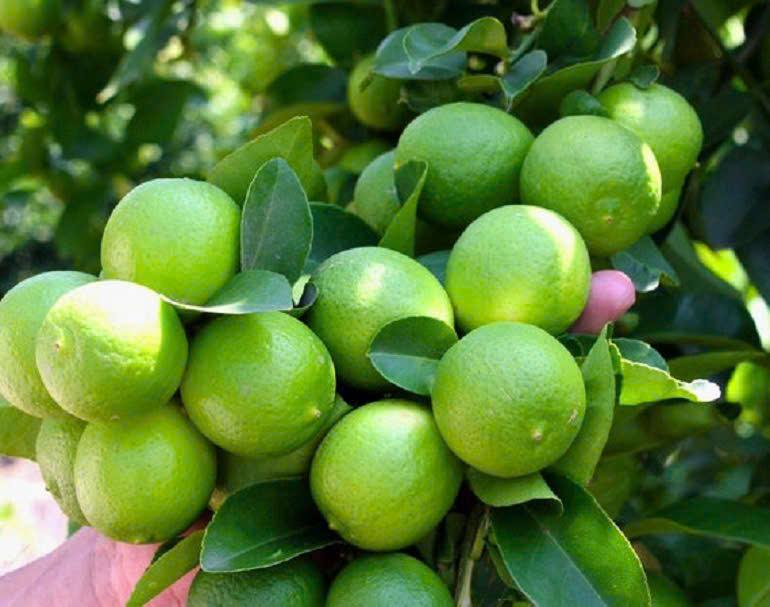lime: (320, 386, 465, 551), (177, 306, 338, 454), (513, 101, 665, 257), (433, 209, 608, 341), (40, 284, 189, 420), (109, 166, 259, 300), (54, 414, 216, 538), (310, 237, 446, 384), (439, 331, 575, 464), (394, 97, 515, 224), (597, 70, 711, 172), (7, 261, 51, 434)
